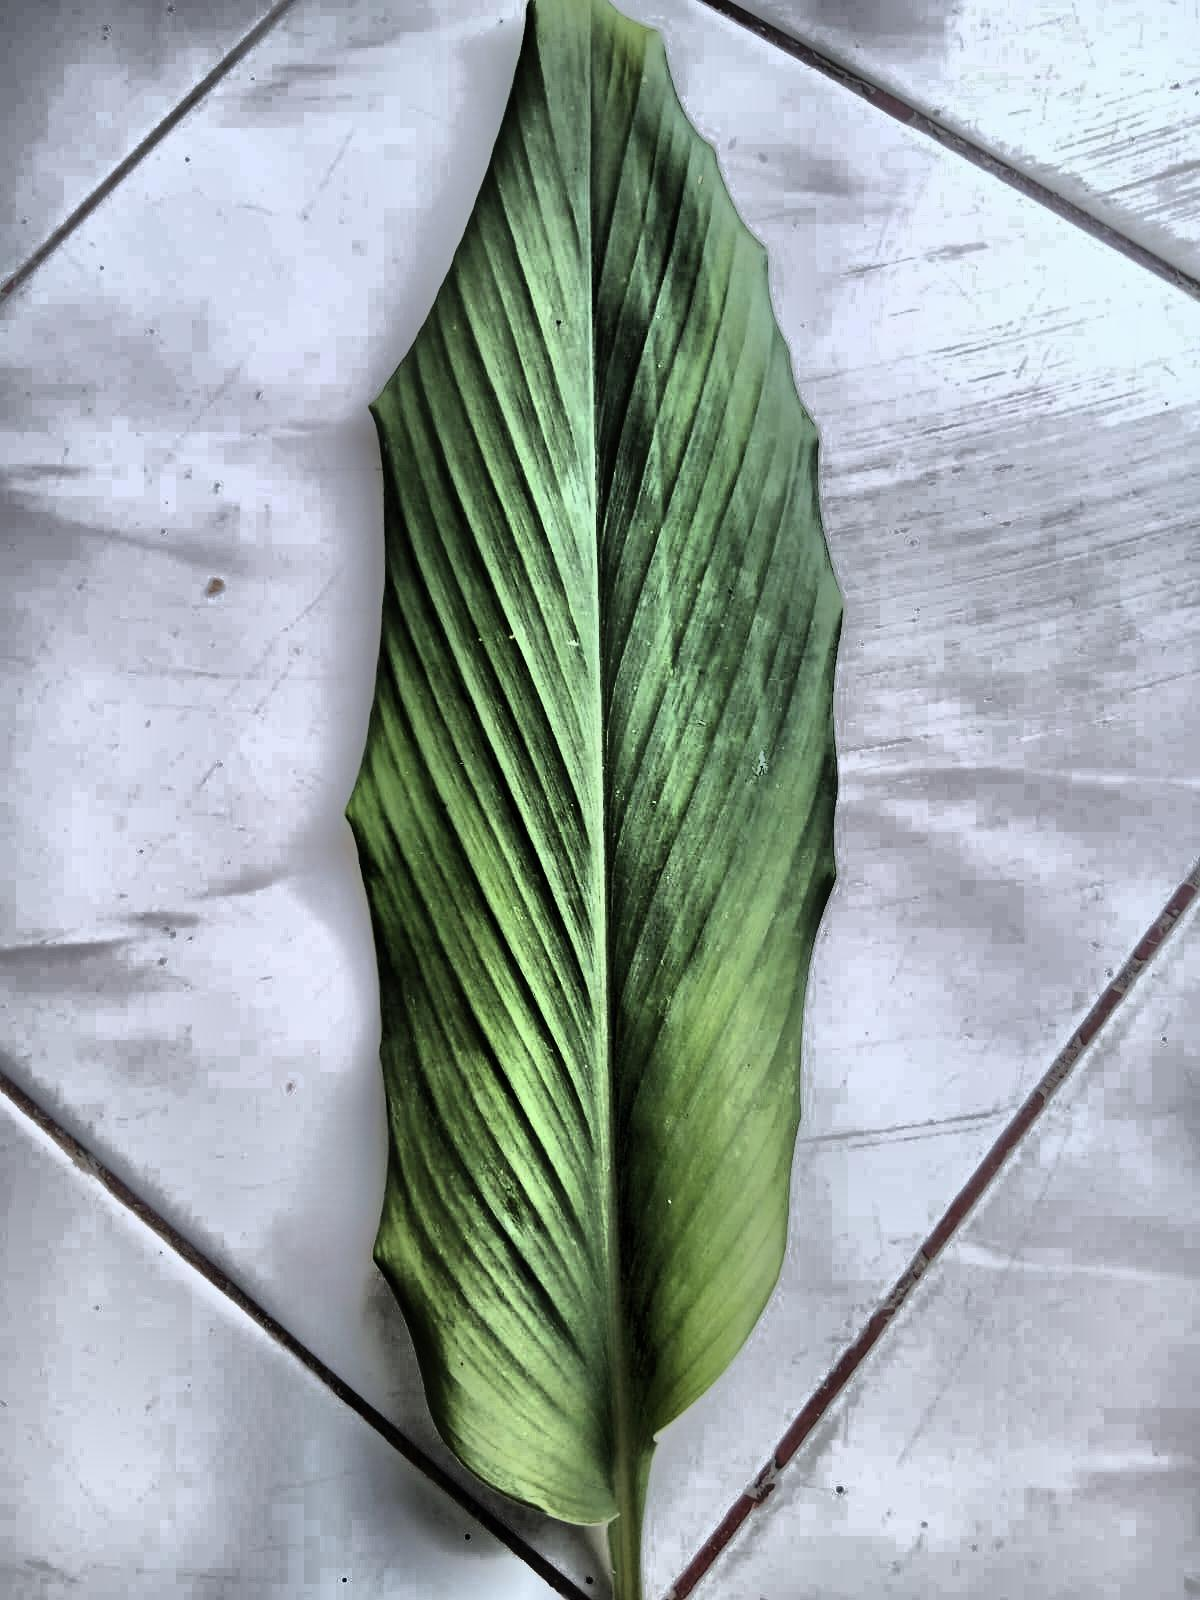daun kunyit: (345, 0, 842, 1599)
